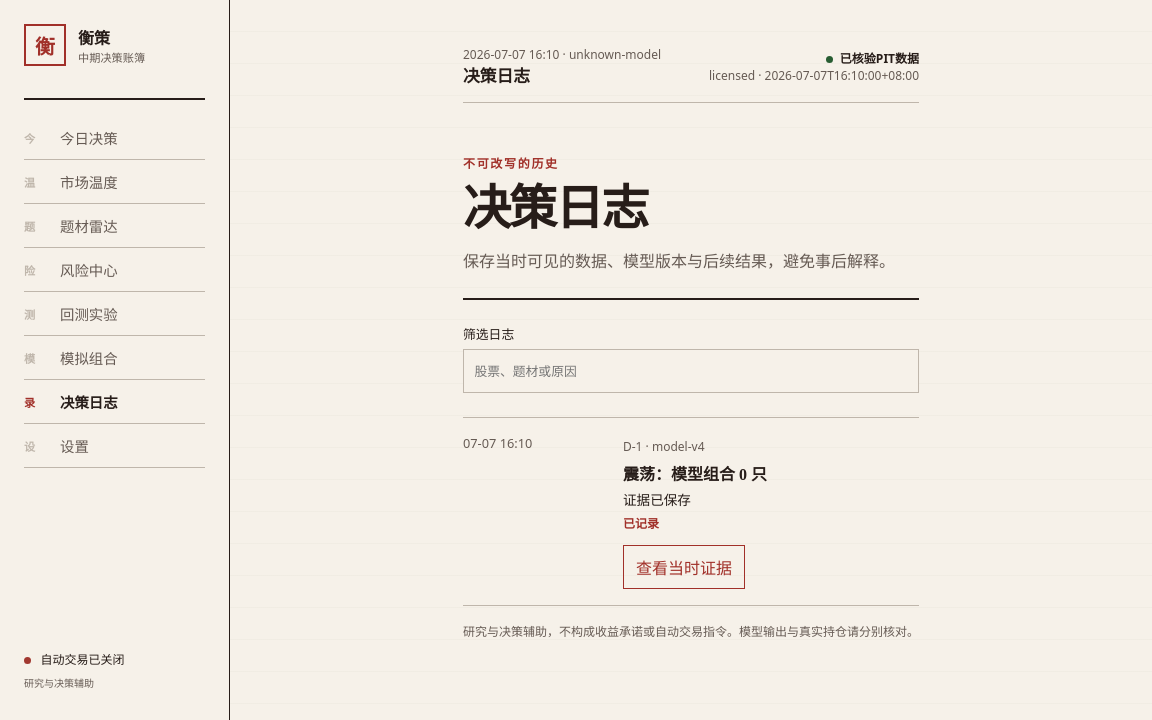
Test: 衡策前端 › 决策日志按需展示当时快照指纹和候选门禁
The width and height of the screenshot is (1152, 720).
Click the button "查看当时证据" at [684, 567], box x1=623 y1=545 x2=745 y2=589
(page scrolled)
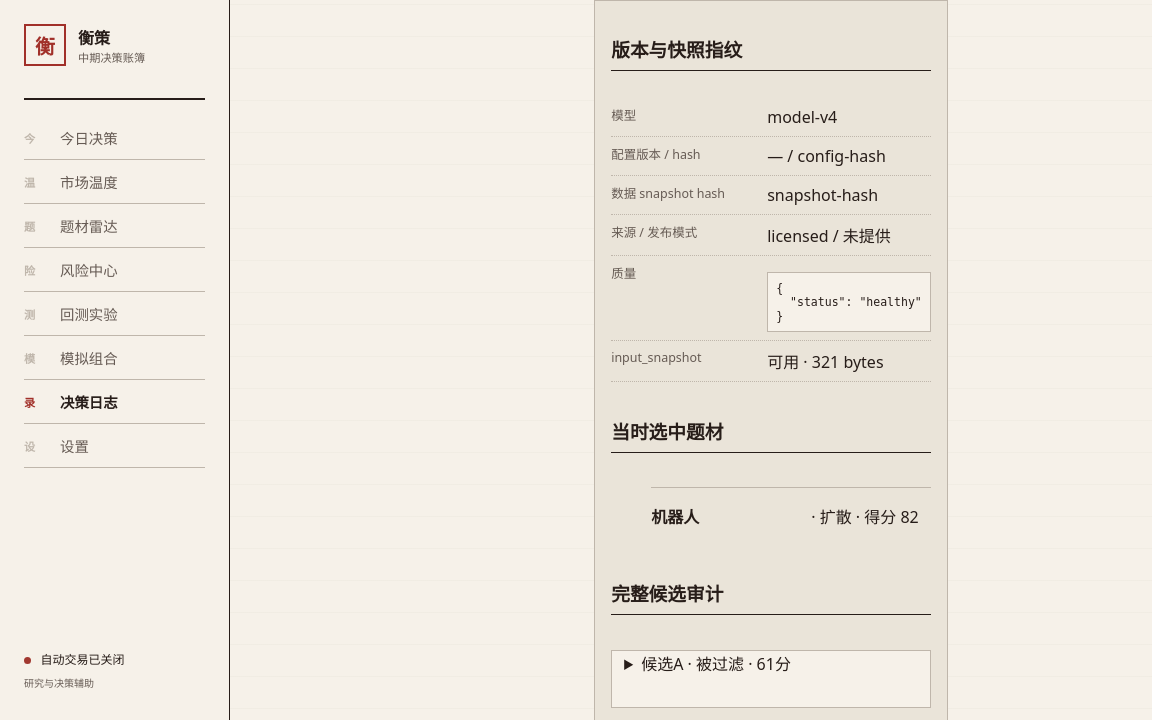
expect the text "snapshot-hash" is shown: met, box x1=767 y1=184 x2=878 y2=206
expect the text "可用 · 321 bytes" is shown: met, box x1=767 y1=351 x2=884 y2=373
